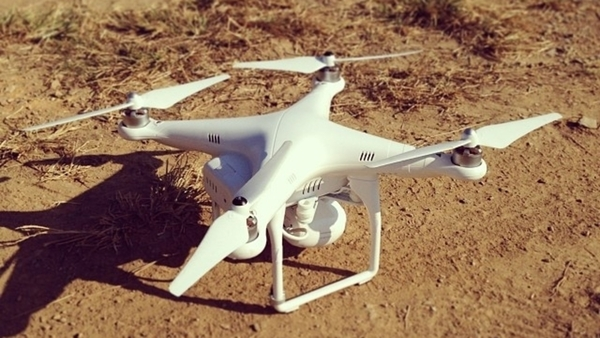drone: (25, 47, 565, 312)
